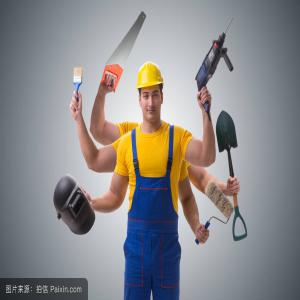yellow: (138, 62, 166, 123)
